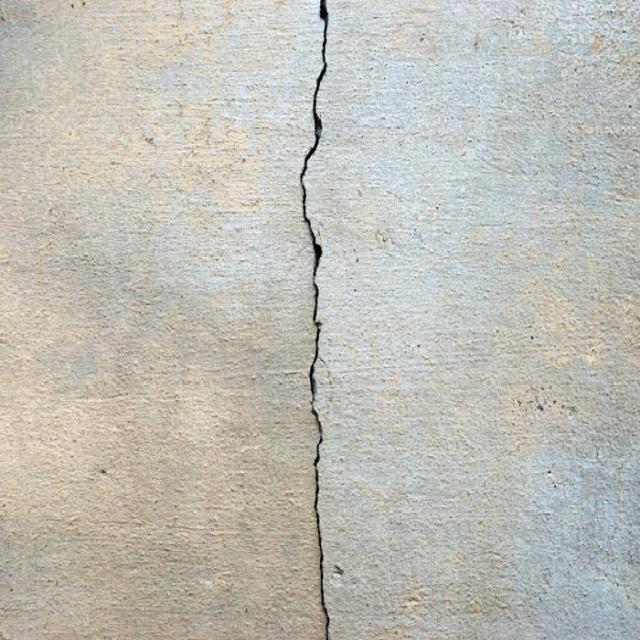Wall_Cracks: (252, 0, 393, 640)
